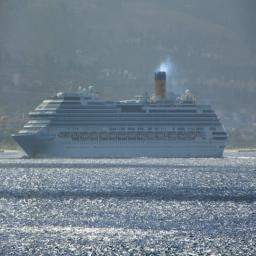cruises: (11, 67, 229, 164)
